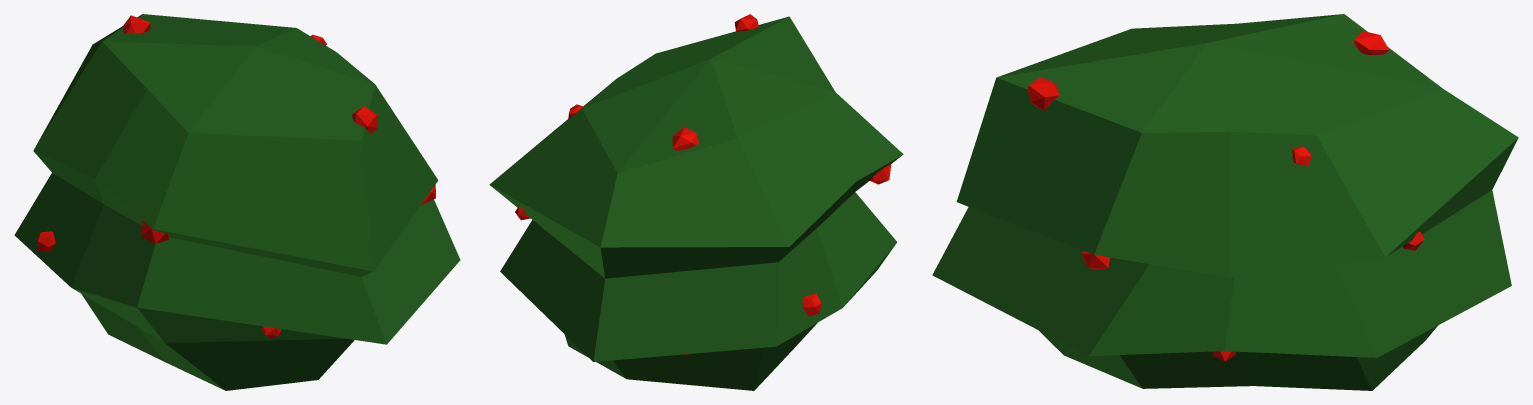
The model's file is bush-berries1.glb.
3 views of the same model, side by side, from view 1: azimuth 30°, elevation 25°; view 2: azimuth 150°, elevation 25°; view 3: azimuth 270°, elevation 25° (orthographic). The views are drawn at different scales.
Parts seen in each view (by area): view 1: bush-berries2; view 2: bush-berries2; view 3: bush-berries2.
Boxes of the visible parts, x1=… form: bush-berries2: x1=14, y1=14, x2=460, y2=390; bush-berries2: x1=489, y1=14, x2=903, y2=390; bush-berries2: x1=932, y1=14, x2=1518, y2=390.
Bounding box in the file's own units: 1.06 × 0.9231 × 1.48.
